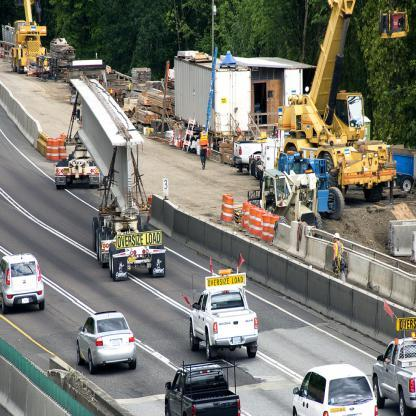excavator: (271, 0, 403, 202), (92, 195, 171, 284), (248, 152, 323, 238), (50, 126, 108, 188), (7, 15, 58, 77)
truck: (190, 286, 268, 362)
